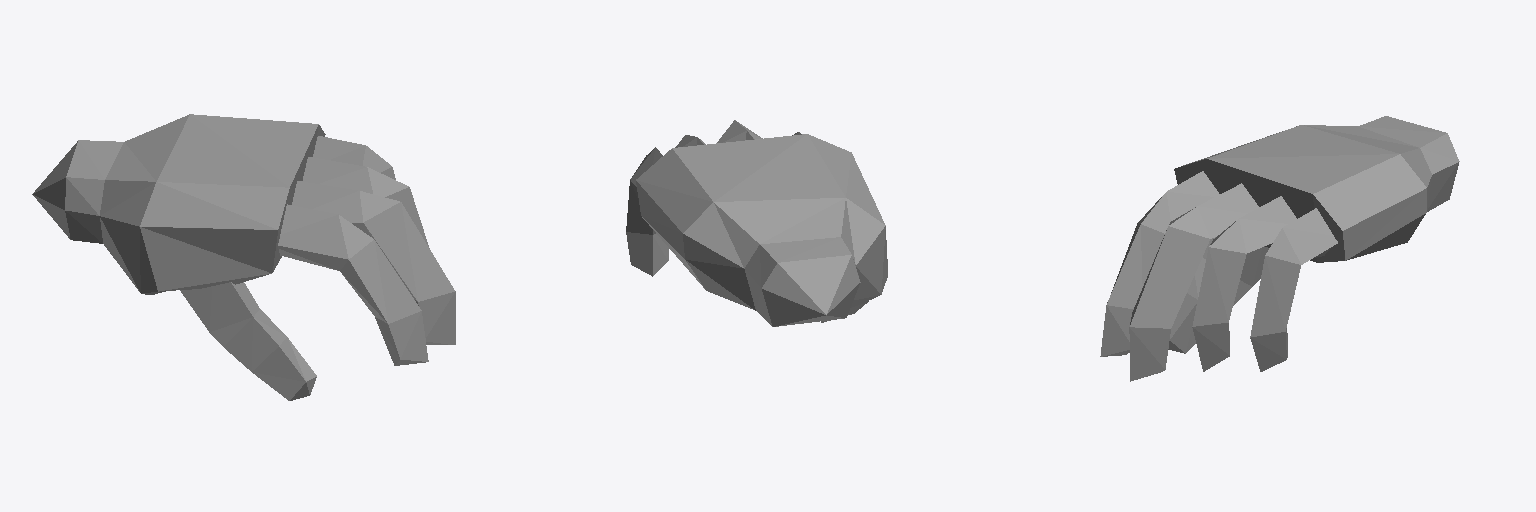
Rendered from buzzlightyLeftHand.obj.
3 renders of one model, left to right at view 1: azimuth 30°, elevation 25°; view 2: azimuth 150°, elevation 25°; view 3: azimuth 270°, elevation 25°, orthographic.
Visible parts, largest first — view 1: buzzlightyLeftHand_buzzlighty.000; view 2: buzzlightyLeftHand_buzzlighty.000; view 3: buzzlightyLeftHand_buzzlighty.000.
Boxes of the visible parts, x1=… form: buzzlightyLeftHand_buzzlighty.000: x1=32, y1=114, x2=455, y2=400; buzzlightyLeftHand_buzzlighty.000: x1=626, y1=120, x2=887, y2=326; buzzlightyLeftHand_buzzlighty.000: x1=1100, y1=116, x2=1459, y2=381.
Bounding box in the file's own units: 0.1068 × 0.0724 × 0.1173.